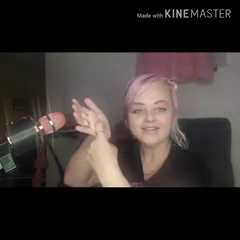R: (69, 95, 123, 167)
